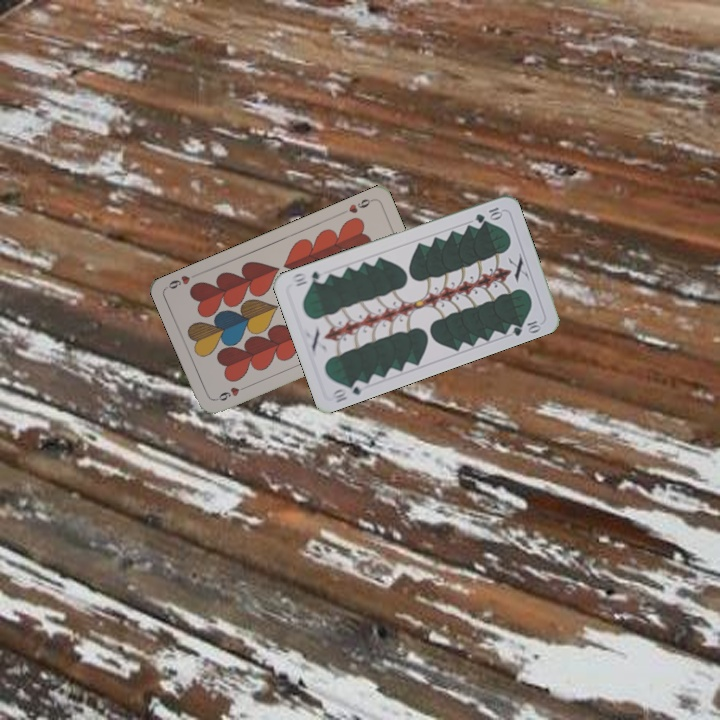G10: (328, 376, 368, 405), (471, 203, 505, 226)
H9: (337, 195, 376, 217), (211, 381, 250, 403)
